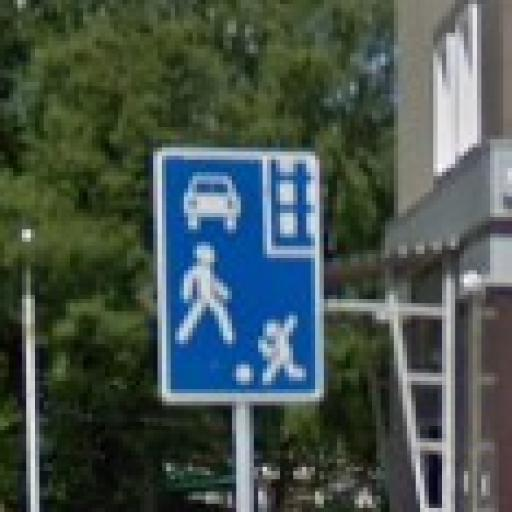traffic_sign: (150, 149, 325, 403)
